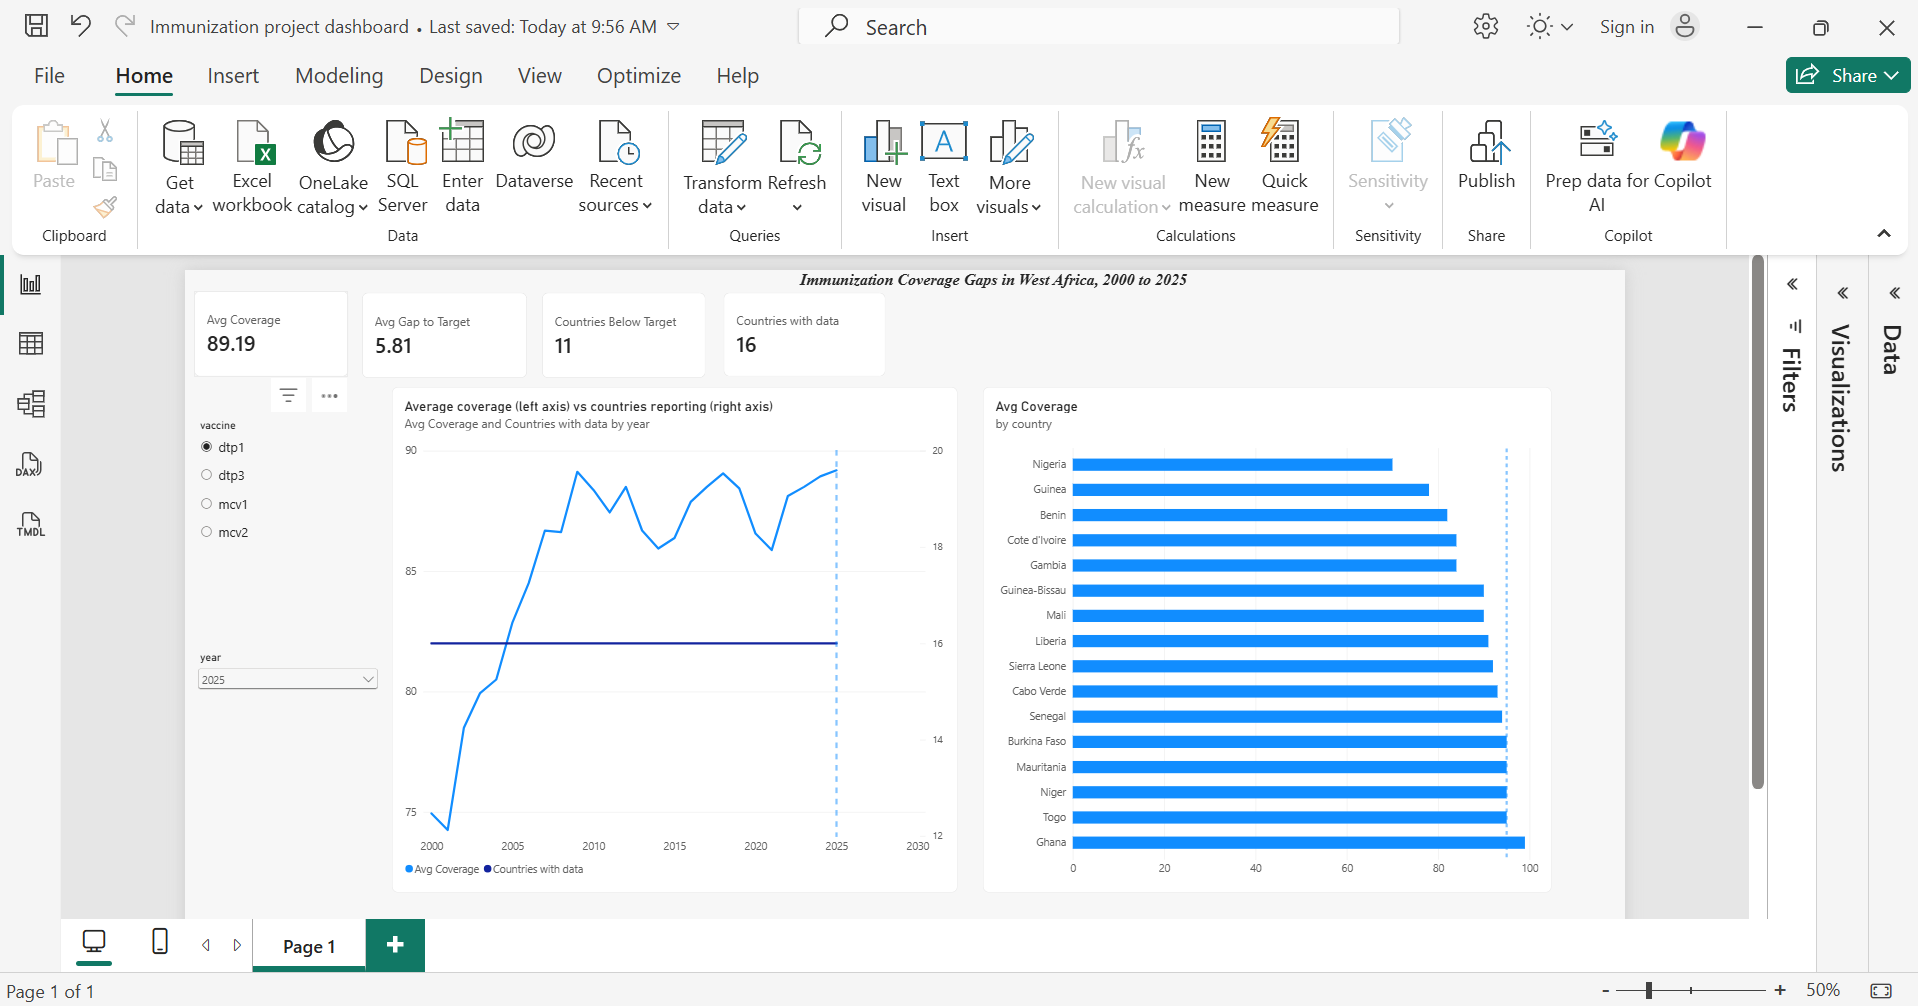

What the dashboard file says about the page in this screenshot:
{"tool":"powerbi","page":{"name":"Page 1","canvas":[1920,1080],"ordinal":0},"visuals":[{"type":"slicer","fields":{"Values":["wuenic_west_africa_long.vaccine"]},"box":[12,198,250,256],"z":0},{"type":"slicer","fields":{"Values":["wuenic_west_africa_long.year"]},"box":[12,508,250,122],"z":1000},{"type":"cardVisual","fields":{"Data":["wuenic_west_africa_long.Avg Coverage"]},"box":[12,28,206,114],"z":2000},{"type":"cardVisual","fields":{"Data":["wuenic_west_africa_long.Avg Gap to Target"]},"box":[236,30,220,114],"z":3000},{"type":"cardVisual","fields":{"Data":["wuenic_west_africa_long.Countries Below Target"]},"box":[476,30,218,114],"z":4000},{"type":"clusteredBarChart","fields":{"Category":["wuenic_west_africa_long.country"],"Y":["wuenic_west_africa_long.Avg Coverage"]},"box":[1064,156,758,674],"z":5000},{"type":"lineChart","title":"Average coverage (left axis) vs countries reporting (right axis)","fields":{"Category":["wuenic_west_africa_long.year"],"Y":["wuenic_west_africa_long.Avg Coverage"],"Y2":["wuenic_west_africa_long.Countries with data"]},"box":[276,156,754,674],"z":6000},{"type":"textbox","box":[1540,156,380,674],"z":7000},{"type":"textbox","box":[524,0,1108,58],"z":8000},{"type":"cardVisual","fields":{"Data":["wuenic_west_africa_long.Countries with data"]},"box":[718,30,216,112],"z":8001}]}

Visuals, with their boxes on the page's 1920x1080 design canvas (x1, y1, x2, y2). These are canvas units, not pixel positions in the 1918x1006 screenshot, which may show the page scaled, cropped or inside an application window:
slicer - wuenic_west_africa_long.vaccine: <region>12, 198, 262, 454</region>
slicer - wuenic_west_africa_long.year: <region>12, 508, 262, 630</region>
cardVisual - wuenic_west_africa_long.Avg Coverage: <region>12, 28, 218, 142</region>
cardVisual - wuenic_west_africa_long.Avg Gap to Target: <region>236, 30, 456, 144</region>
cardVisual - wuenic_west_africa_long.Countries Below Target: <region>476, 30, 694, 144</region>
clusteredBarChart - wuenic_west_africa_long.country x wuenic_west_africa_long.Avg Coverage: <region>1064, 156, 1822, 830</region>
"Average coverage (left axis) vs countries reporting (right axis)" lineChart: <region>276, 156, 1030, 830</region>
textbox: <region>1540, 156, 1920, 830</region>
textbox: <region>524, 0, 1632, 58</region>
cardVisual - wuenic_west_africa_long.Countries with data: <region>718, 30, 934, 142</region>
